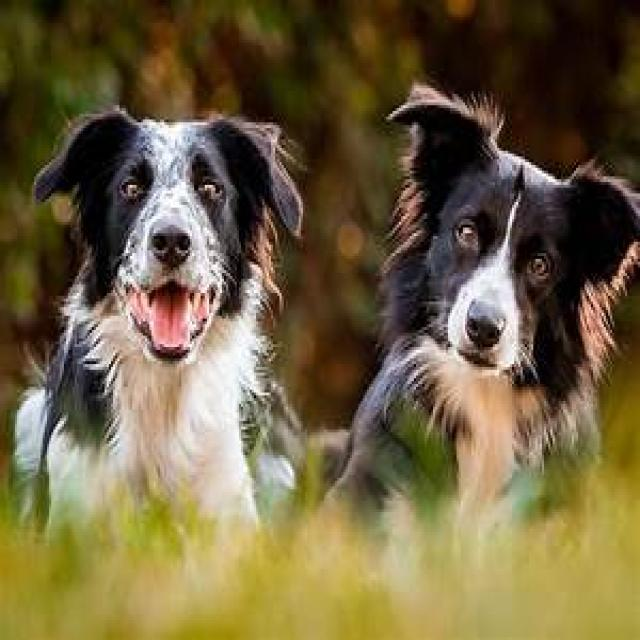dog: (350, 82, 640, 521), (11, 108, 305, 526)
